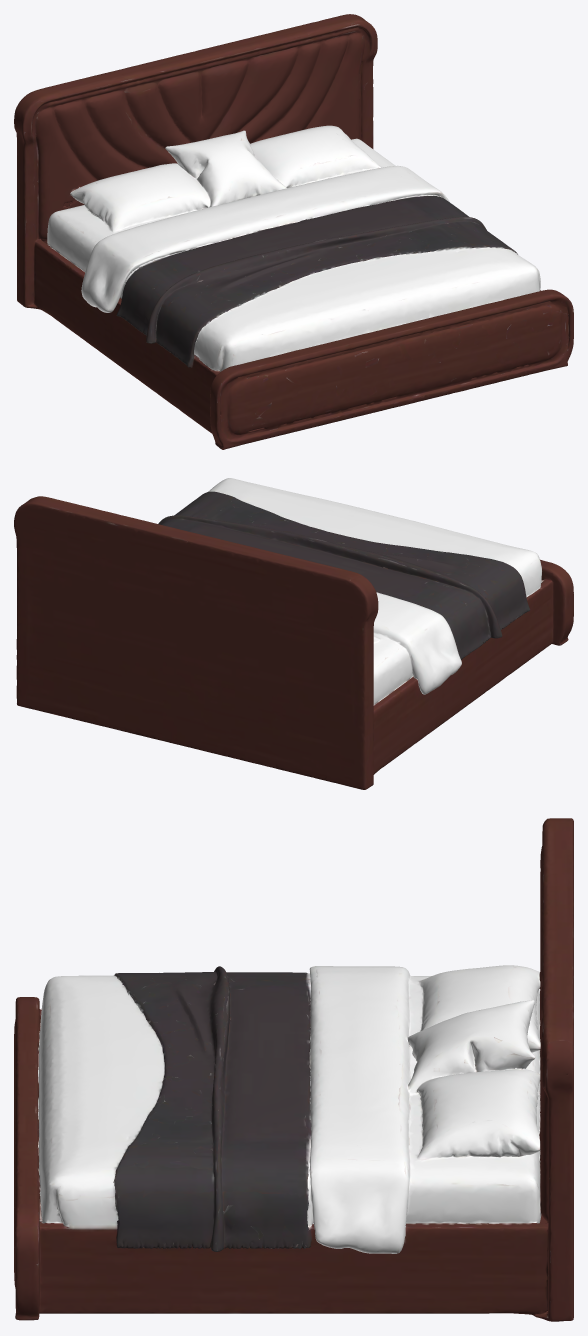
The model's file is bed1.glb.
The picture shows the model from 3 angles, top to bottom: view 1: azimuth 30°, elevation 25°; view 2: azimuth 150°, elevation 25°; view 3: azimuth 270°, elevation 25°; orthographic projection. The views are drawn at different scales.
Parts seen in each view (by area): view 1: world; view 2: world; view 3: world.
Part boxes in pixels (x1,y1,x2,y2): world: [14, 14, 573, 449]; world: [14, 478, 573, 789]; world: [14, 818, 573, 1321].
Bounding box in the file's own units: 1 × 0.5599 × 0.9987.
1 material, 1 textured.
